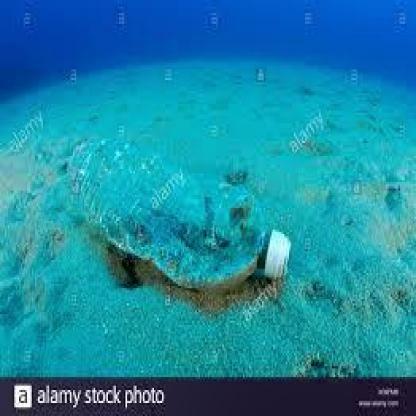pbottle: (60, 134, 294, 292)
